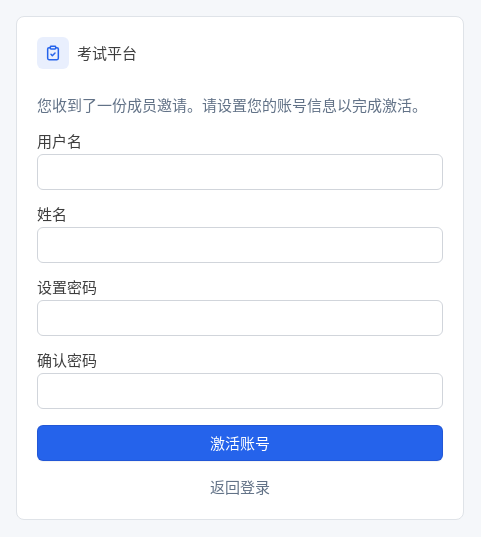
public identity pages (#297) › invite-accept: posts the URL token and shows the success state
The width and height of the screenshot is (481, 537).
Type "invited" into the field labelled "用户名". click: (240, 172)
box: [37,154,443,190]
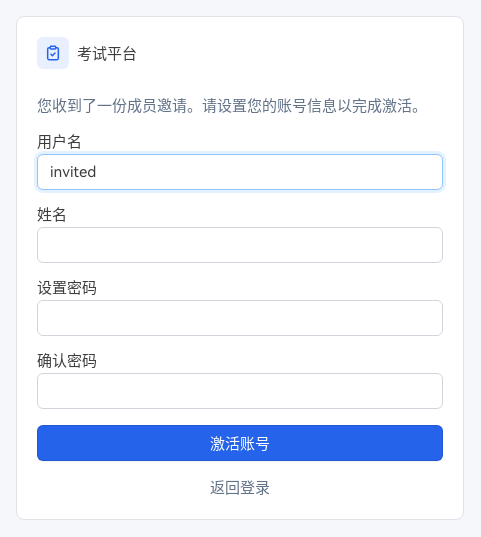
Type "受邀" into the field labelled "姓名". click: (240, 245)
box: [37,227,443,263]
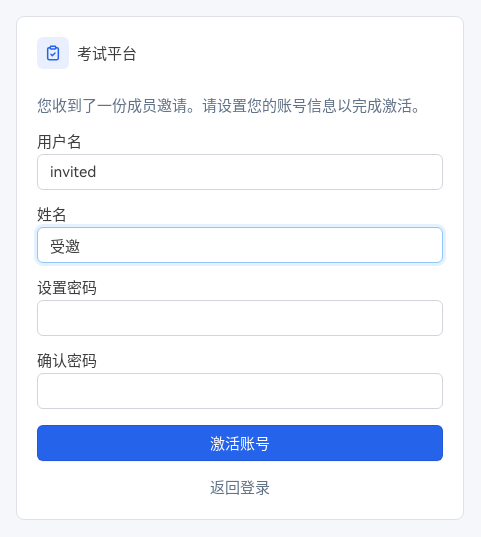
Type "Sup3rSecret!" into the password field labelled "设置密码". click: (240, 318)
box: [37,300,443,336]
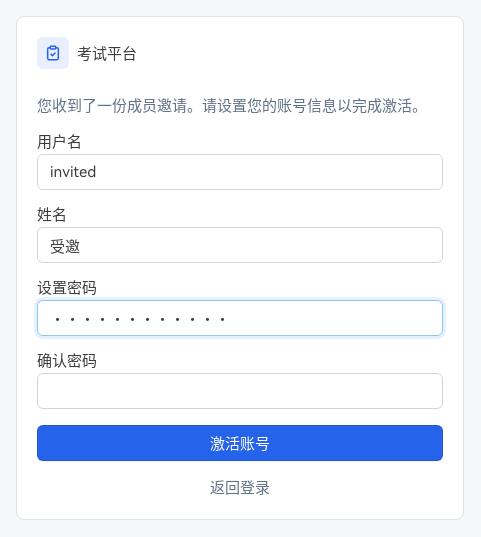
Type "Sup3rSecret!" into the password field labelled "确认密码". click: (240, 391)
box: [37,373,443,409]
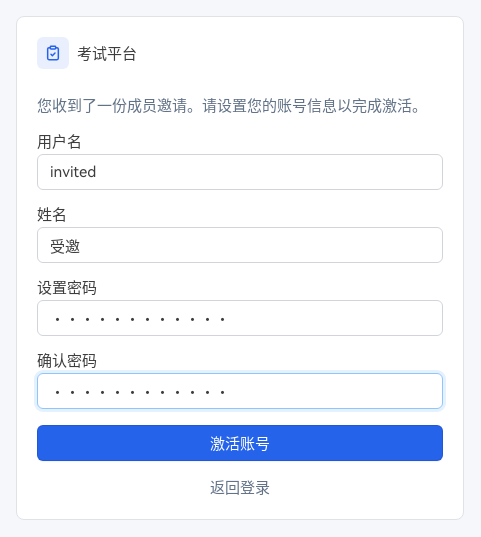
Click the button "激活账号". click: (240, 443)
box: [37,425,443,461]
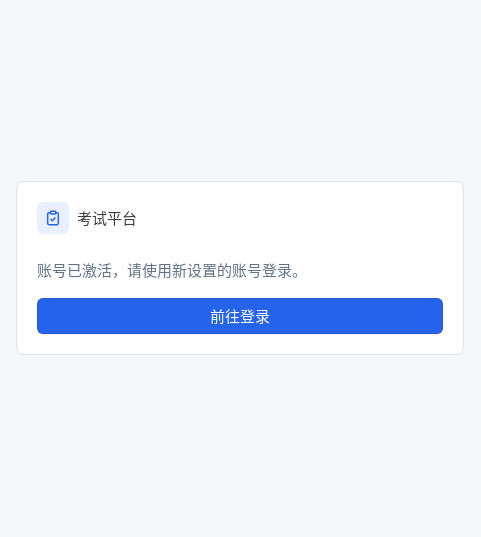
Check: the element with test id "invite-accept-success" is shown, box [37,260,443,334]
